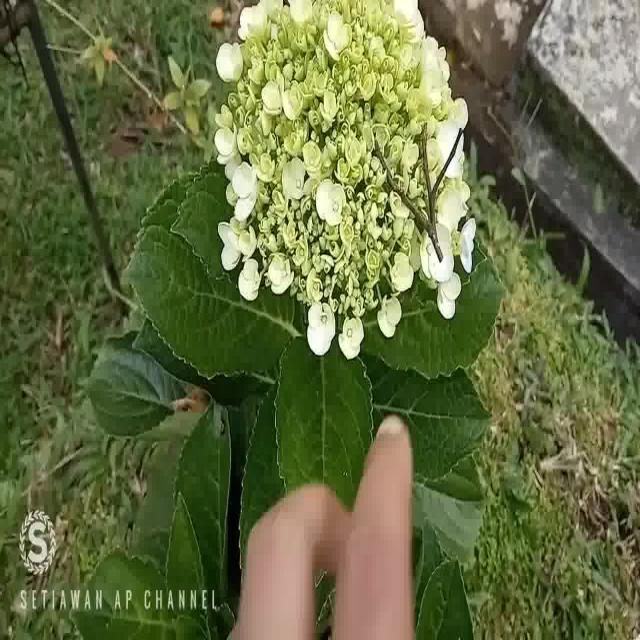Flower: (211, 1, 477, 361)
